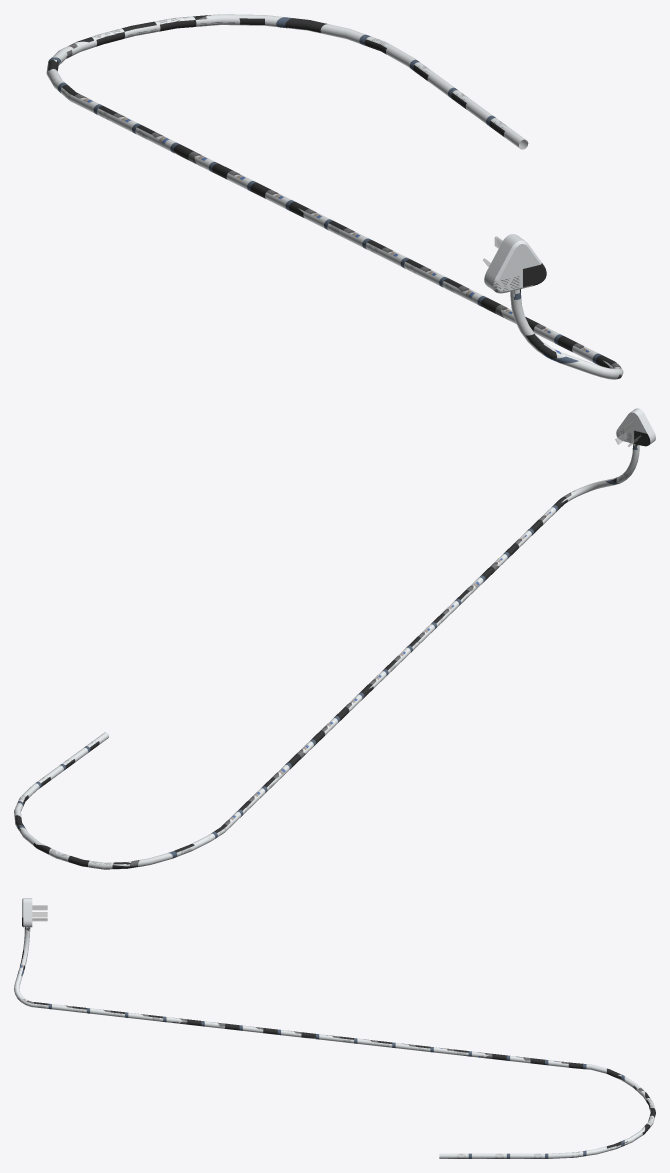
Rendered from SM_电源插头 1.FBX.
3 renders of one model, top to bottom at view 1: azimuth 30°, elevation 25°; view 2: azimuth 150°, elevation 25°; view 3: azimuth 270°, elevation 25°, orthographic. The views are drawn at different scales.
Visible parts, largest first — view 1: SM_电源插头; view 2: SM_电源插头; view 3: SM_电源插头.
Boxes of the visible parts, left/top/right/bottom form: SM_电源插头: left=46, top=14, right=623, bottom=379; SM_电源插头: left=14, top=408, right=655, bottom=869; SM_电源插头: left=14, top=898, right=655, bottom=1158.
Size of the model in its own units: 0.2888 by 0.7125 by 0.1933.
